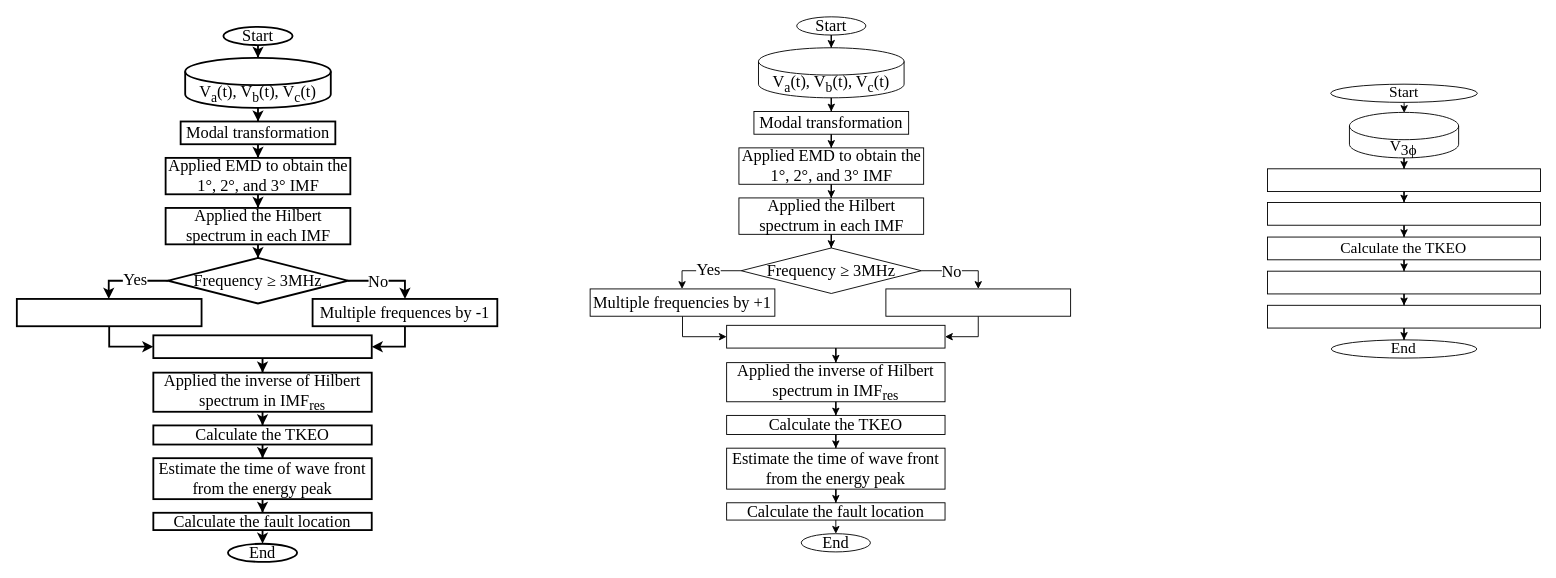
Some shapes in this 1556 by 578 pixel diagram are drawn without their labels. The shapes that lost their labels are listed below. From the top down, each one's centre as x and y in pixels, then its label:
(1404,180): Decompose the signal into aerials mode
(1404,213): Applied the EMD to obtain the 1 st IMF
(978,302): Multiple frequencies by -1
(1404,282): Estimated the time from the energy peak
(108,312): Multiple frequences by +1
(1404,316): Calculated the fault location
(262,346): IMF res = IMF 1 - (IMF 2 + IMF 3 )
(835,336): IMF res = IMF 1 + IMF 2 + IMF 3
